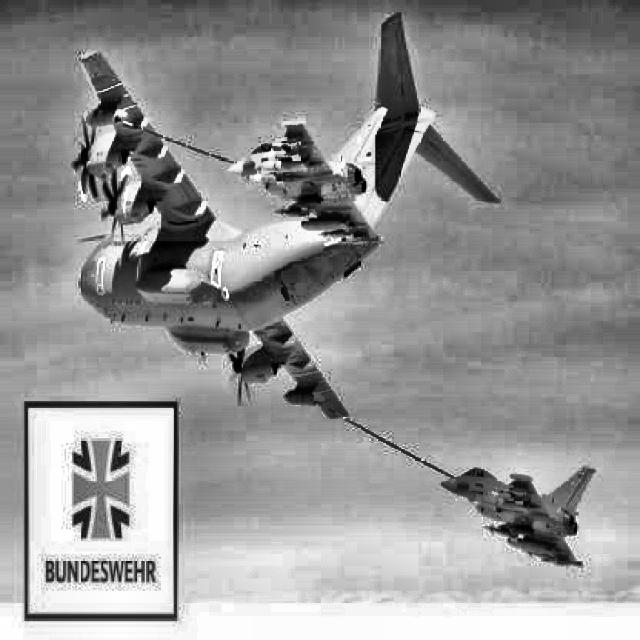A400M: (72, 11, 500, 418)
EF2000: (228, 106, 388, 246), (439, 461, 598, 568)
